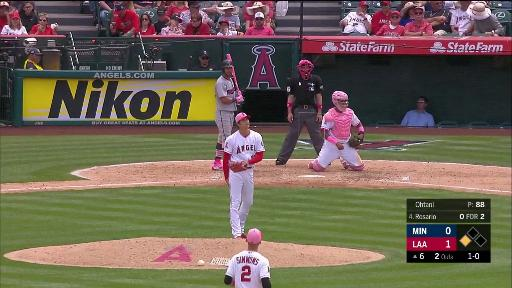pitcher: (223, 113, 261, 239)
